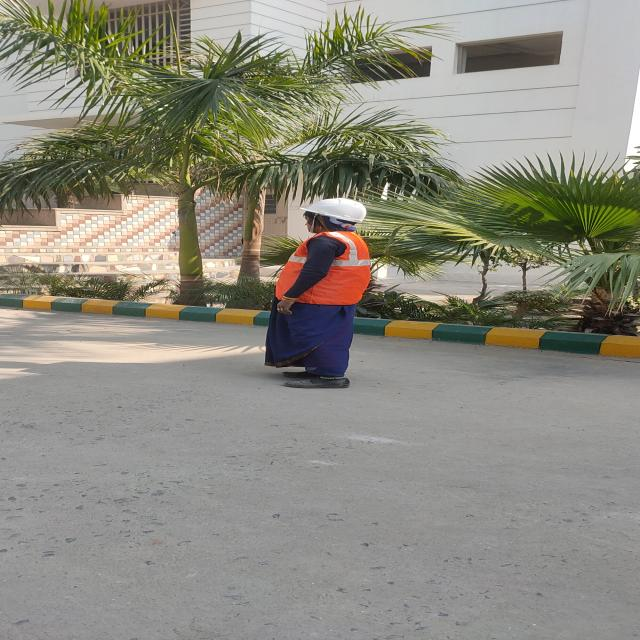safe: (272, 198, 371, 388)
